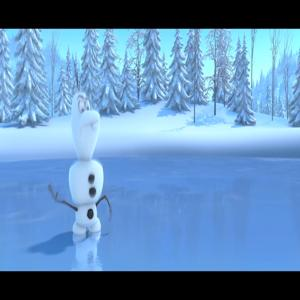olaf: (62, 89, 126, 241)
